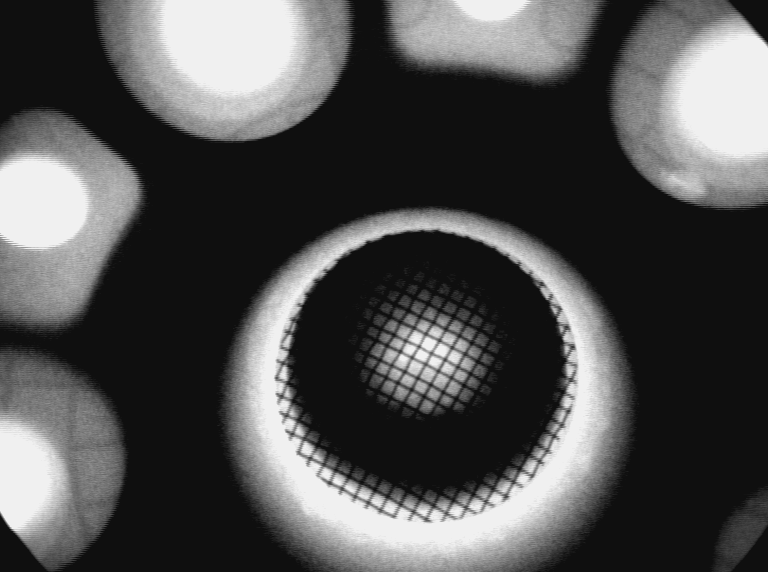defect: (661, 164, 714, 208)
